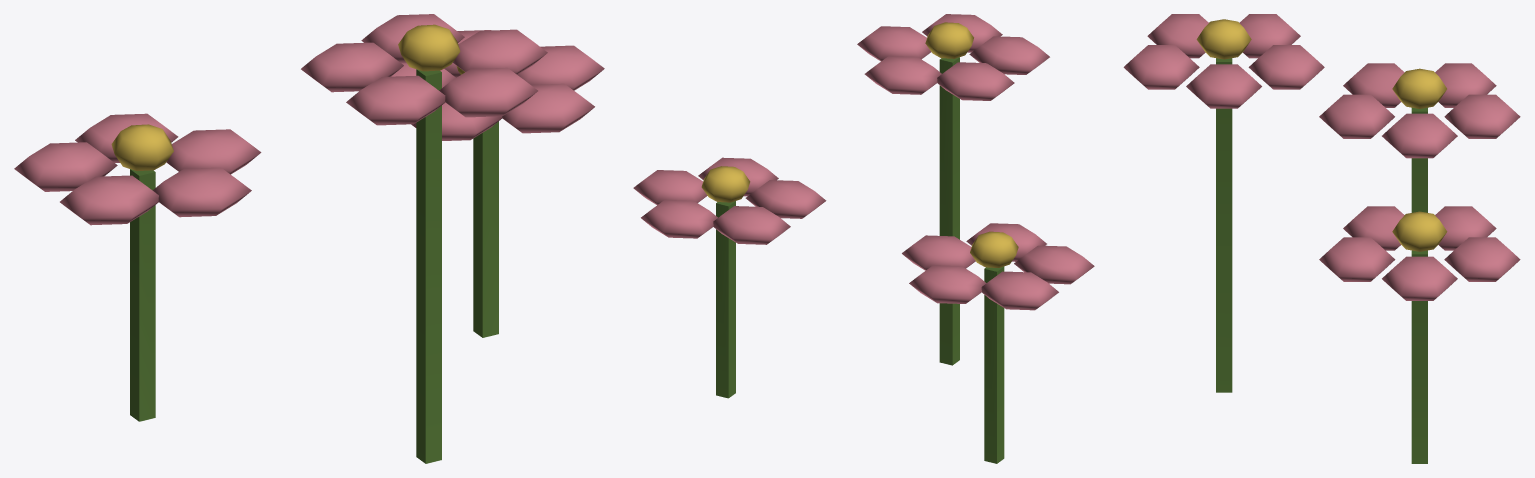
Rendered from pink_flower.glb.
3 views of the same model, side by side, from view 1: azimuth 30°, elevation 25°; view 2: azimuth 150°, elevation 25°; view 3: azimuth 270°, elevation 25° (orthographic). The views are drawn at different scales.
Parts seen in each view (by area): view 1: pink_flower; view 2: pink_flower; view 3: pink_flower.
Part boxes in pixels (x1,y1,x2,y2): pink_flower: (14,14,604,463); pink_flower: (633,14,1094,463); pink_flower: (1123,14,1520,463).
Size of the model in its own units: 0.302 by 0.2275 by 0.2234.
